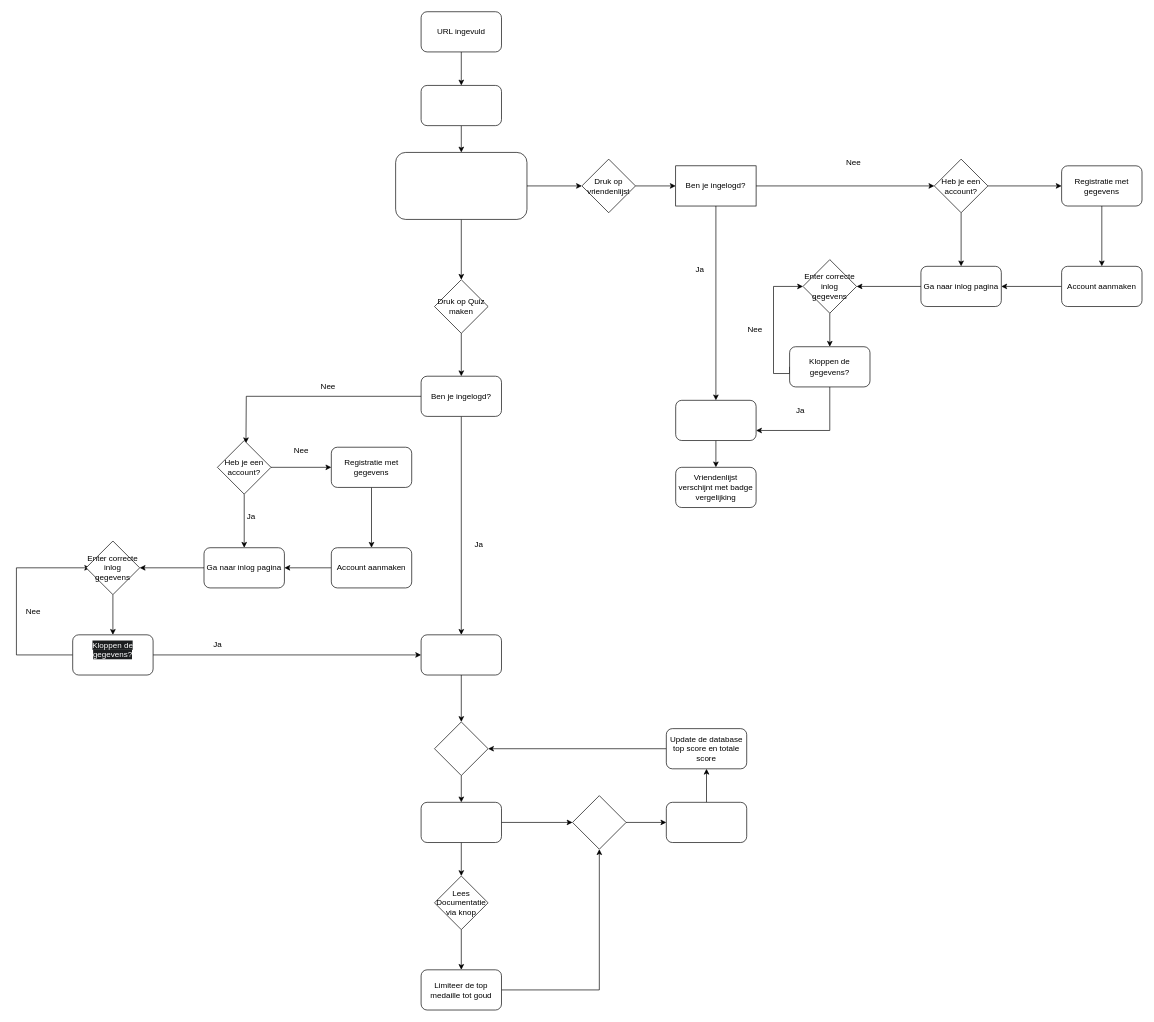
The diagram is 1154 pixels wide and 1022 high, and some of its shapes have lost their labels. The shapes that lost their labels are listed below. From the top down, each one's box as (x1, y1, x2, y2) in pixels, then its label:
(420, 85, 501, 126): Welkom op de thuis pagina
(395, 152, 527, 219): Welkom gebruiker! Quiz knop verschijnt Documentatie knop verschijnt
(675, 400, 756, 441): Database haalt de vriendenlijst op
(420, 634, 501, 675): Ga naar Quiz scherm
(434, 721, 488, 776): Kies een quiz
(420, 802, 501, 843): Quiz met antwoorden Opgehaald via database
(572, 795, 626, 849): Maak de quiz af
(666, 802, 747, 843): Krijg een score met medaille
